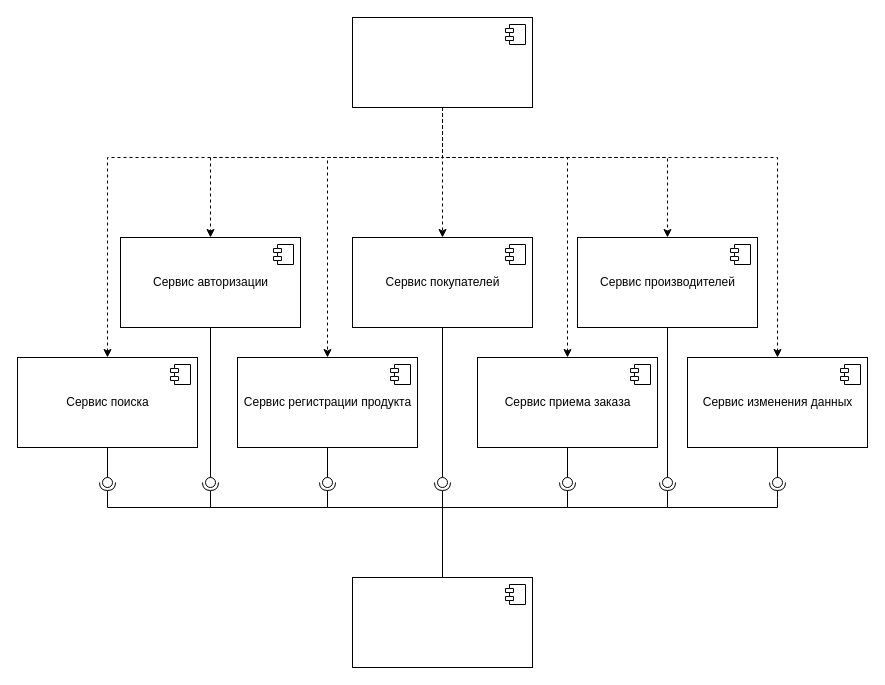
Some shapes in this 885 by 685 pixel diagram are drawn without their labels. Here are the shapes that lost their labels. From the top down, the centre of each, then its label:
At pixel 442 62: "Компонент транспортного слоя".
At pixel 442 622: "Компонент доступа к данным".
